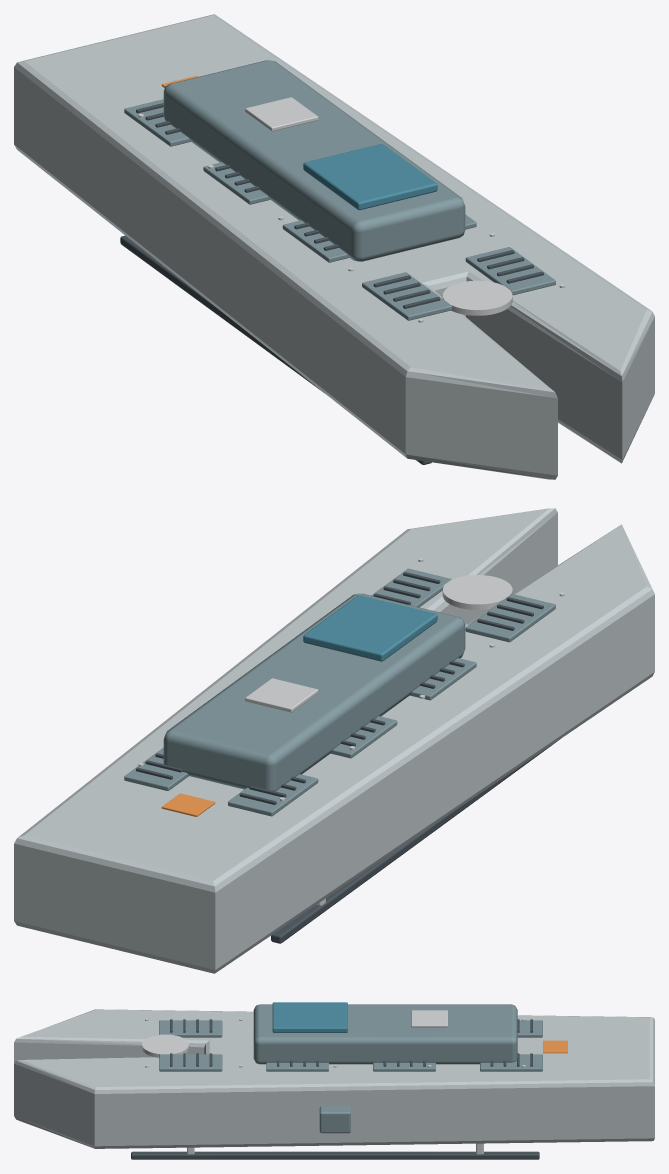
3 views of the same model, one above another, from view 1: azimuth 30°, elevation 25°; view 2: azimuth 150°, elevation 25°; view 3: azimuth 270°, elevation 25° (orthographic). The views are drawn at different scales.
Parts seen in each view (by area): view 1: frigate-core; view 2: frigate-core; view 3: frigate-core.
Boxes of the visible parts, bbox=[...] form: frigate-core: bbox=[14, 14, 654, 479]; frigate-core: bbox=[14, 508, 654, 973]; frigate-core: bbox=[14, 1002, 654, 1159].
Bounding box in the file's own units: 3.85 × 2.5 × 12.23.
